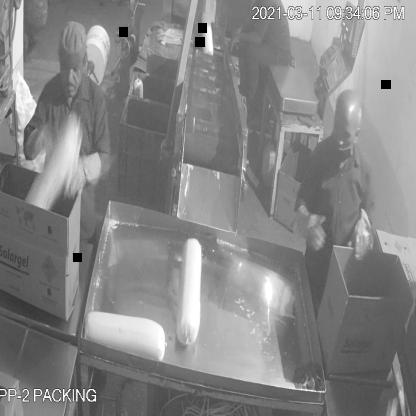no_glove: (226, 22, 268, 60)
